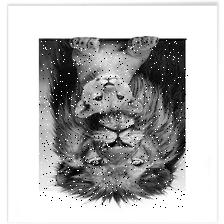Lion: (40, 39, 189, 207)
